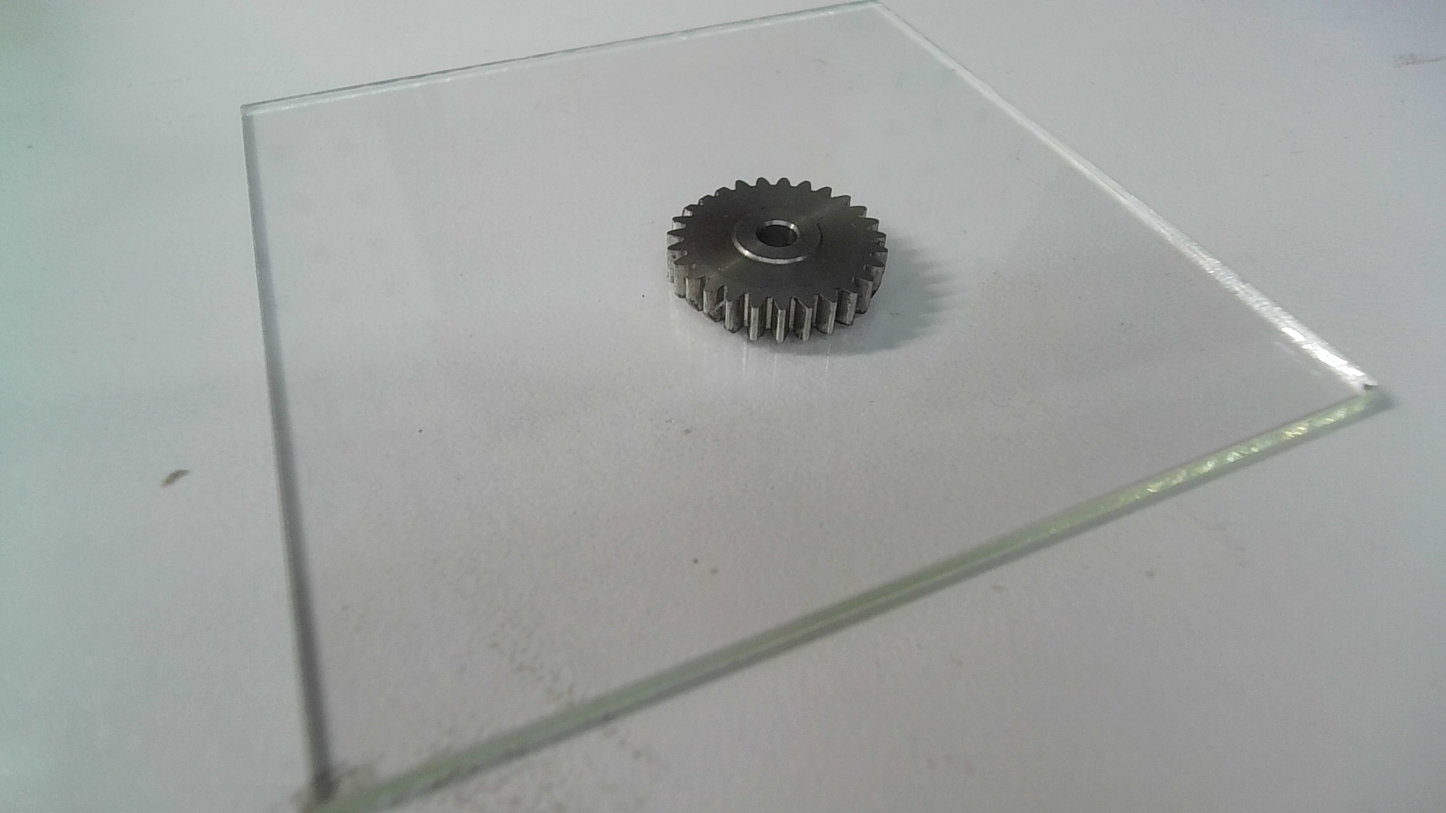gear: (664, 177, 892, 343)
